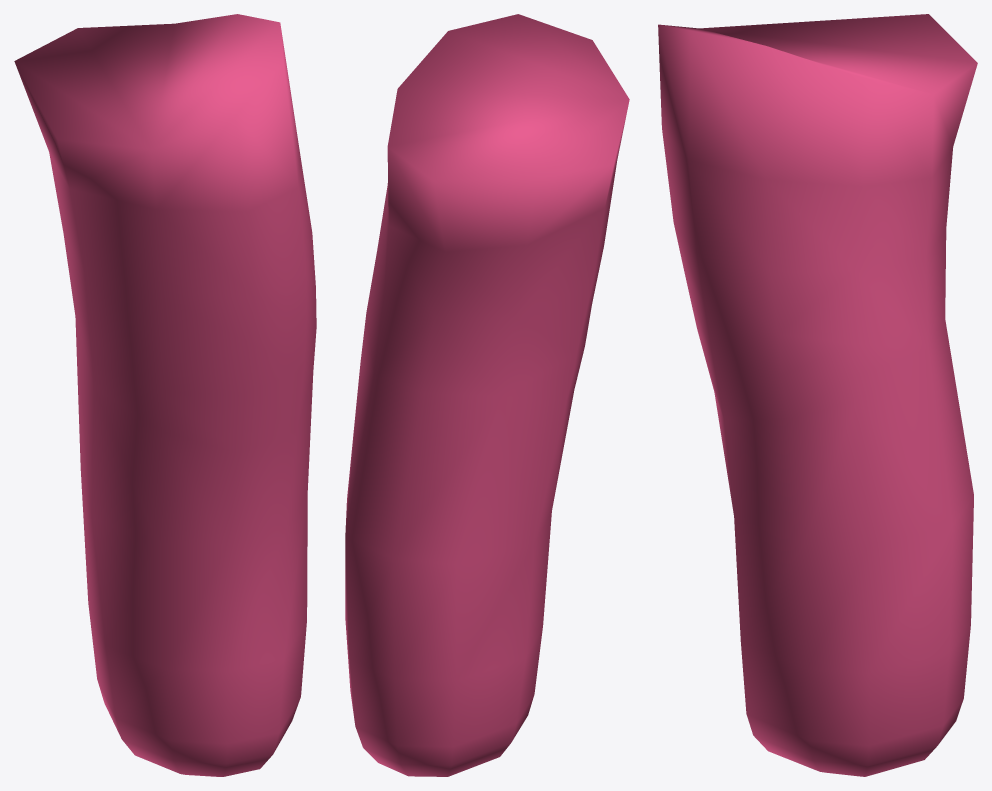
Rendered from leftLegEnemy.fbx.
3 views of the same model, side by side, from view 1: azimuth 30°, elevation 25°; view 2: azimuth 150°, elevation 25°; view 3: azimuth 270°, elevation 25° (orthographic). The views are drawn at different scales.
Parts seen in each view (by area): view 1: Stickman_heads_sphere.005; view 2: Stickman_heads_sphere.005; view 3: Stickman_heads_sphere.005.
Boxes of the visible parts, x1,y1,x2,y2 form: Stickman_heads_sphere.005: (14, 14, 316, 776); Stickman_heads_sphere.005: (345, 14, 629, 776); Stickman_heads_sphere.005: (658, 14, 977, 776).
Bounding box in the file's own units: 0.1983 × 0.5459 × 0.2175.
Materials: 1 (1 with a texture image).
